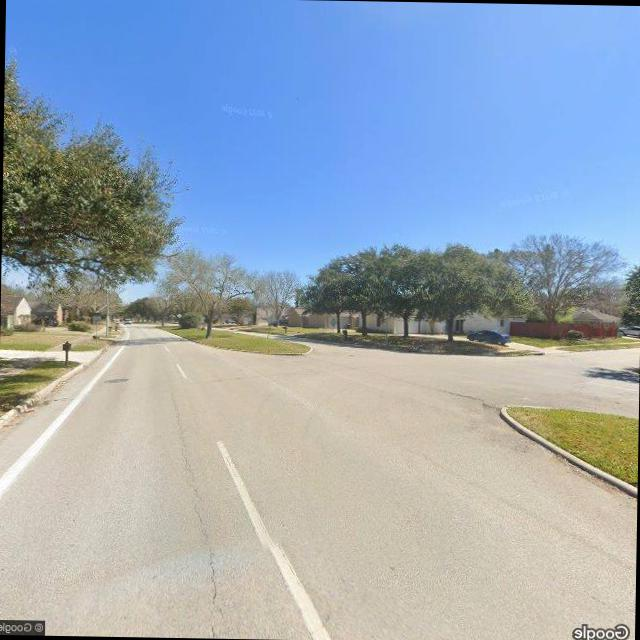pothole: (174, 417, 232, 638)
